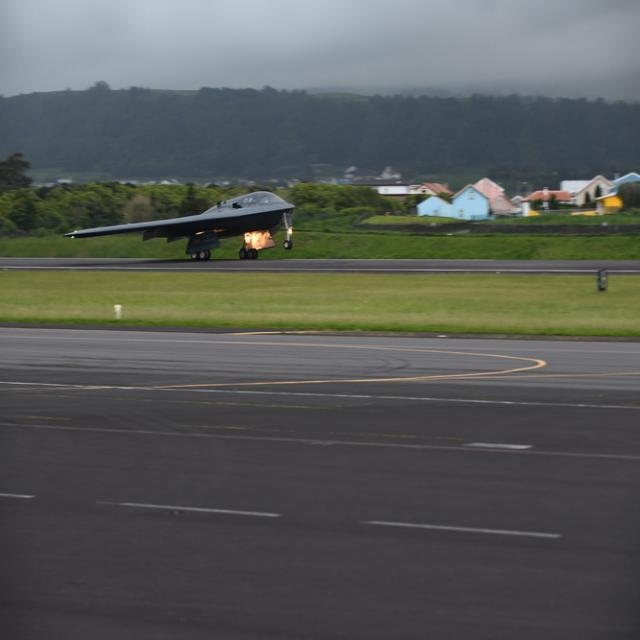MIL_Plane: (125, 62, 232, 132)
